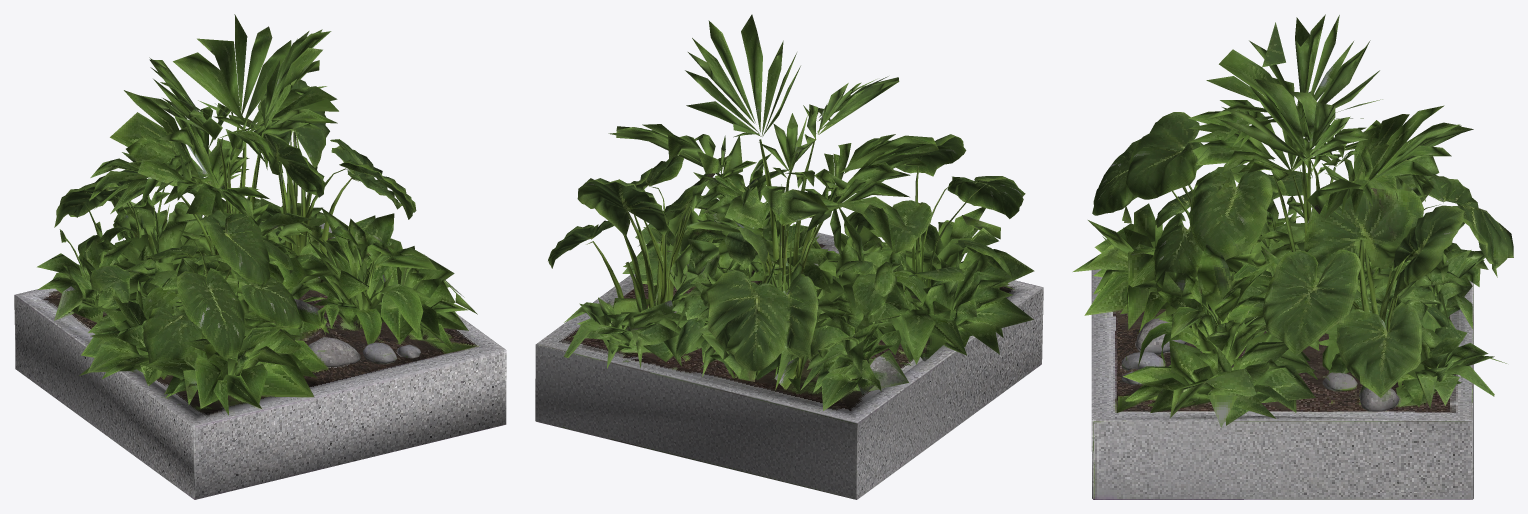
The model's file is planter.glb.
3 views of the same model, side by side, from view 1: azimuth 30°, elevation 25°; view 2: azimuth 150°, elevation 25°; view 3: azimuth 270°, elevation 25° (orthographic). The views are drawn at different scales.
Parts seen in each view (by area): view 1: planter; view 2: planter; view 3: planter.
Boxes of the visible parts, x1=… form: planter: x1=14, y1=14, x2=506, y2=499; planter: x1=535, y1=14, x2=1043, y2=499; planter: x1=1073, y1=14, x2=1513, y2=499.
Bounding box in the file's own units: 2.49 × 2.12 × 2.31.
1 material, 1 textured.
